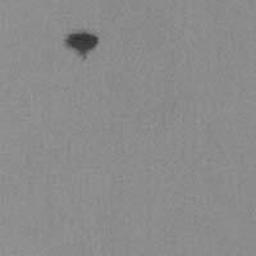Inclusion: (66, 32, 98, 56)
